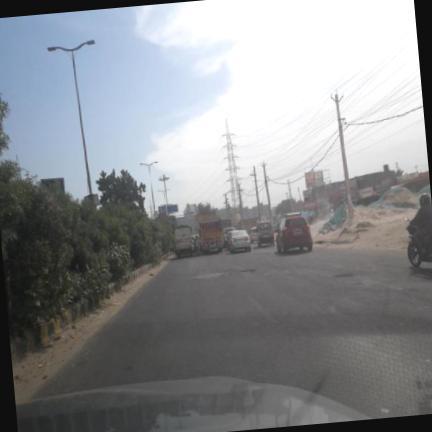Road: (36, 247, 431, 417)
